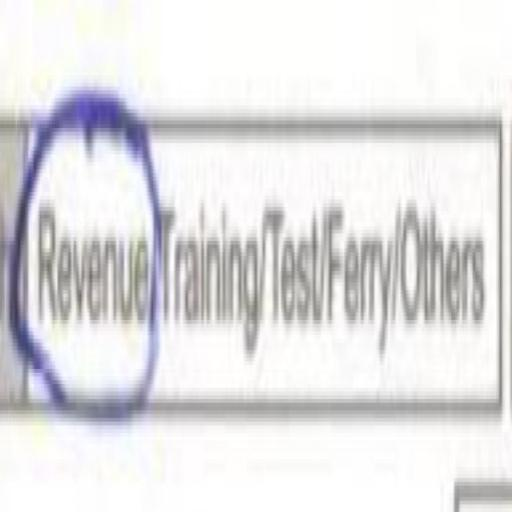check: (30, 59, 160, 512)
